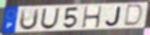5: (62, 6, 81, 30)
D: (122, 4, 145, 27)
H: (81, 5, 103, 29)
J: (105, 6, 123, 27)
U: (18, 8, 41, 31), (40, 8, 61, 30)
